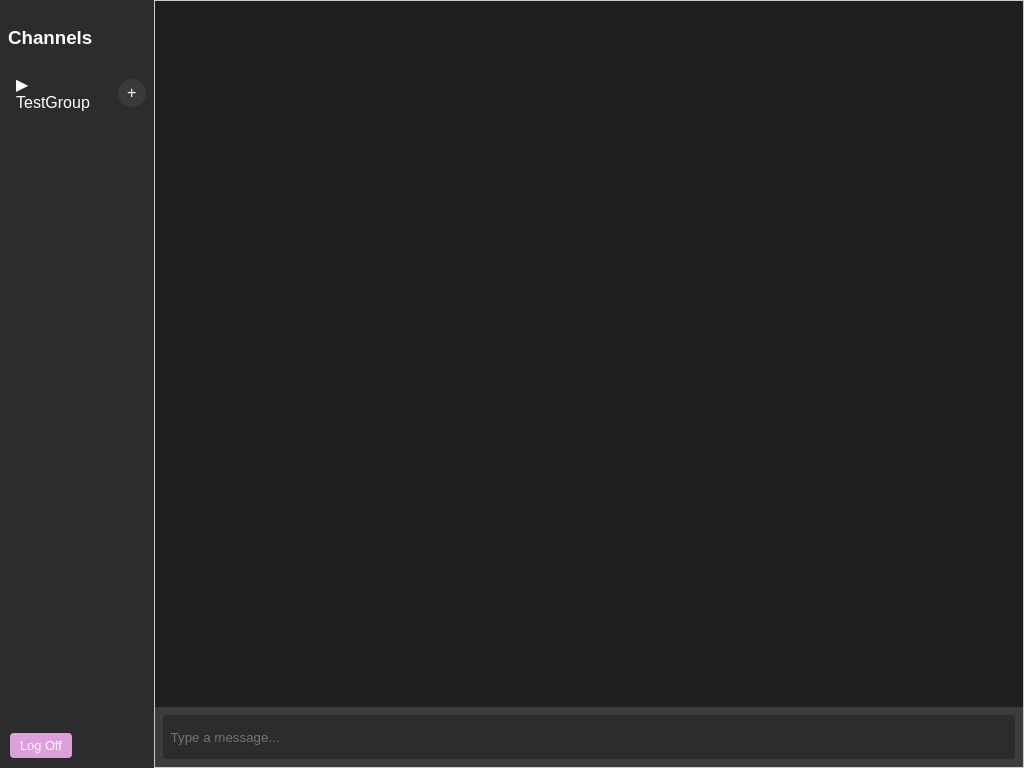
Channel Group Toggle › expands and collapses channel group correctly
This screenshot has width=1024, height=768.
Click the button "▶ TestGroup" at (59, 94), box x1=8 y1=69 x2=110 y2=118
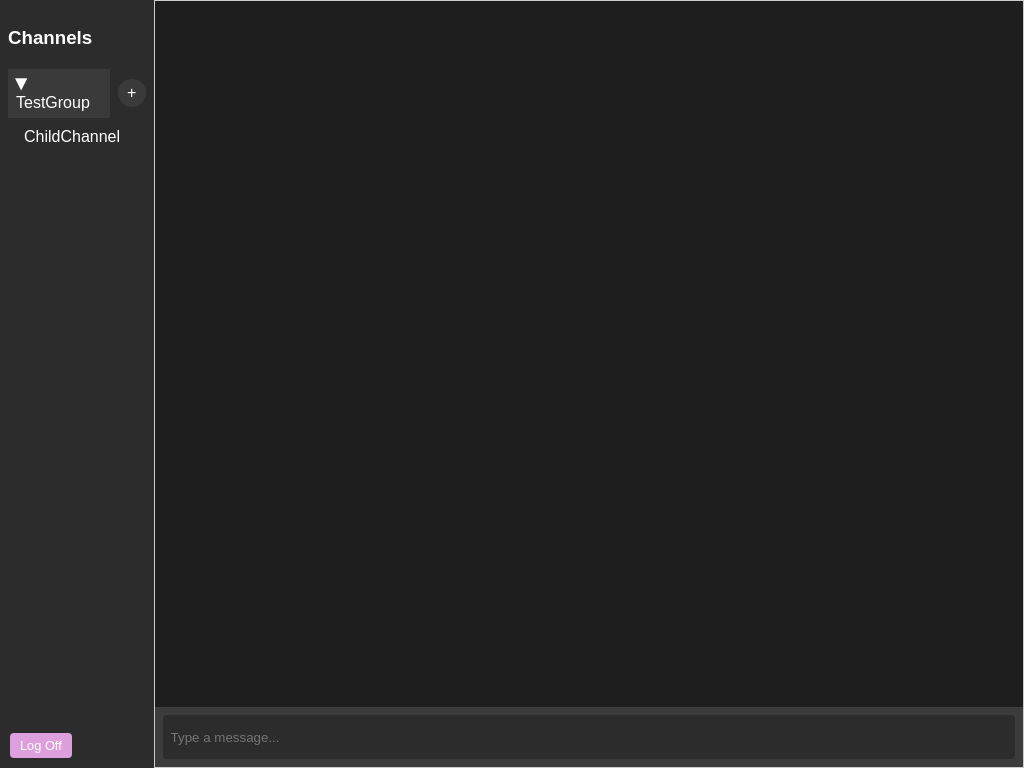
Now the button "ChildChannel" is shown, box x1=16 y1=122 x2=154 y2=152
Click the button "▶ TestGroup" at (59, 94), box x1=8 y1=69 x2=110 y2=118
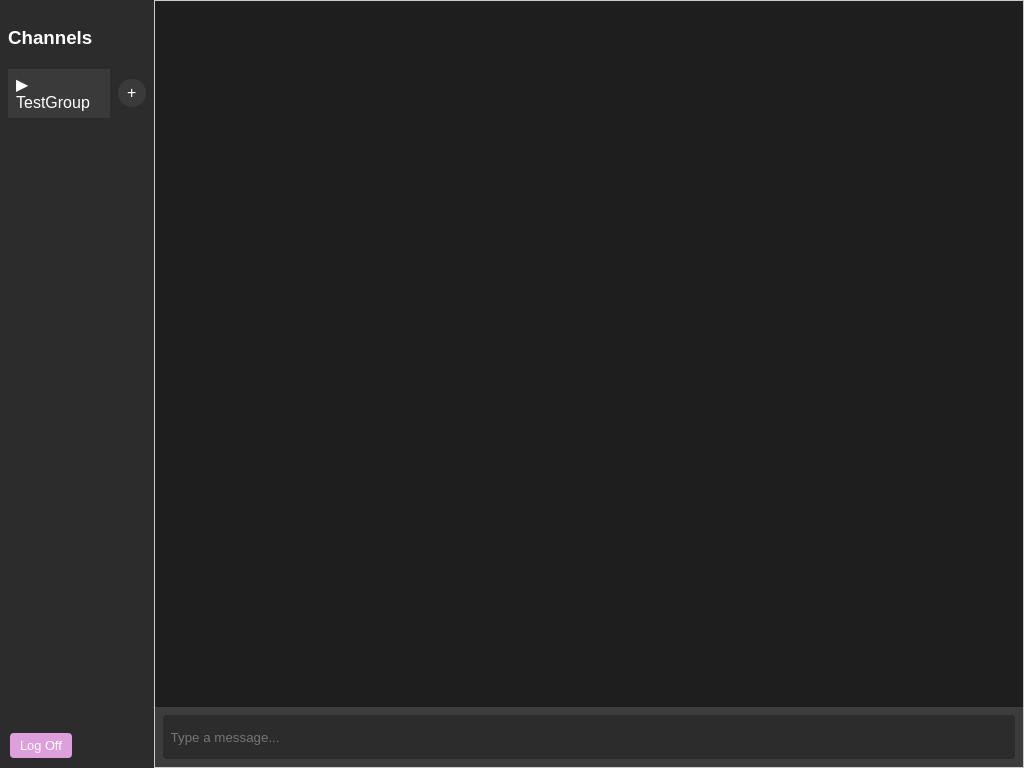
Now the button with class "indented" is gone
